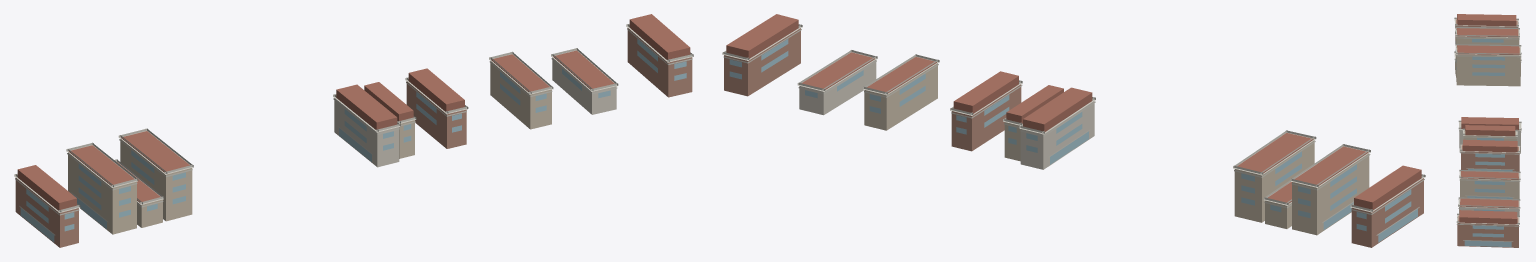
The picture shows the model from 3 angles, left to right: view 1: azimuth 30°, elevation 25°; view 2: azimuth 150°, elevation 25°; view 3: azimuth 270°, elevation 25°; orthographic projection. The views are drawn at different scales.
Visible parts, largest first — view 1: building-0702-mesh-5, building-0704-mesh-15, building-0926-mesh-45, building-0854-mesh-35, building-0853-mesh-30, building-0797-mesh-20, building-0701-mesh-0, building-0926-mesh-48, building-0797-mesh-23, building-0925-mesh-40, building-0701-mesh-3, building-0853-mesh-33 (+17 smaller); view 2: building-0702-mesh-5, building-0926-mesh-45, building-0854-mesh-35, building-0704-mesh-15, building-0797-mesh-20, building-0701-mesh-0, building-0853-mesh-30, building-0926-mesh-48, building-0925-mesh-40, building-0797-mesh-23, building-0701-mesh-3, building-0853-mesh-33 (+18 smaller); view 3: building-0704-mesh-15, building-0926-mesh-45, building-0854-mesh-35, building-0853-mesh-30, building-0926-mesh-48, building-0701-mesh-3, building-0853-mesh-33, building-0704-mesh-18, building-0798-mesh-28, building-0702-mesh-8, building-0797-mesh-23, building-0926-mesh-46 (+29 smaller).
Part boxes in pixels (x1,y1,x2,y2): building-0702-mesh-5: (68,152,136,234); building-0704-mesh-15: (120,139,192,221); building-0926-mesh-45: (627,28,692,97); building-0854-mesh-35: (490,61,551,129); building-0853-mesh-30: (406,81,466,148); building-0797-mesh-20: (334,98,399,167); building-0701-mesh-0: (15,178,78,247); building-0926-mesh-48: (629,14,690,59); building-0797-mesh-23: (336,84,397,129); building-0925-mesh-40: (552,57,616,114); building-0701-mesh-3: (17,165,76,210); building-0853-mesh-33: (408,68,464,111); building-0702-mesh-5: (1292,153,1369,235); building-0926-mesh-45: (724,28,800,96); building-0854-mesh-35: (864,63,937,130); building-0704-mesh-15: (1234,140,1314,222); building-0797-mesh-20: (1020,101,1094,169); building-0701-mesh-0: (1351,178,1423,247); building-0853-mesh-30: (951,84,1021,151); building-0926-mesh-48: (726,14,798,58); building-0925-mesh-40: (799,60,876,115); building-0797-mesh-23: (1023,87,1092,131); building-0701-mesh-3: (1354,165,1421,210); building-0853-mesh-33: (953,71,1018,113); building-0704-mesh-15: (1456,46,1520,86); building-0926-mesh-45: (1457,215,1518,247); building-0854-mesh-35: (1460,172,1519,199); building-0853-mesh-30: (1461,145,1519,171); building-0926-mesh-48: (1459,210,1517,224); building-0701-mesh-3: (1457,14,1516,26); building-0853-mesh-33: (1462,139,1517,152); building-0704-mesh-18: (1457,45,1519,54); building-0798-mesh-28: (1465,125,1515,136); building-0702-mesh-8: (1456,28,1518,37); building-0797-mesh-23: (1461,117,1518,130); building-0926-mesh-46: (1464,225,1511,247).
Size of the model in its own units: 179 by 13.15 by 24.83.
